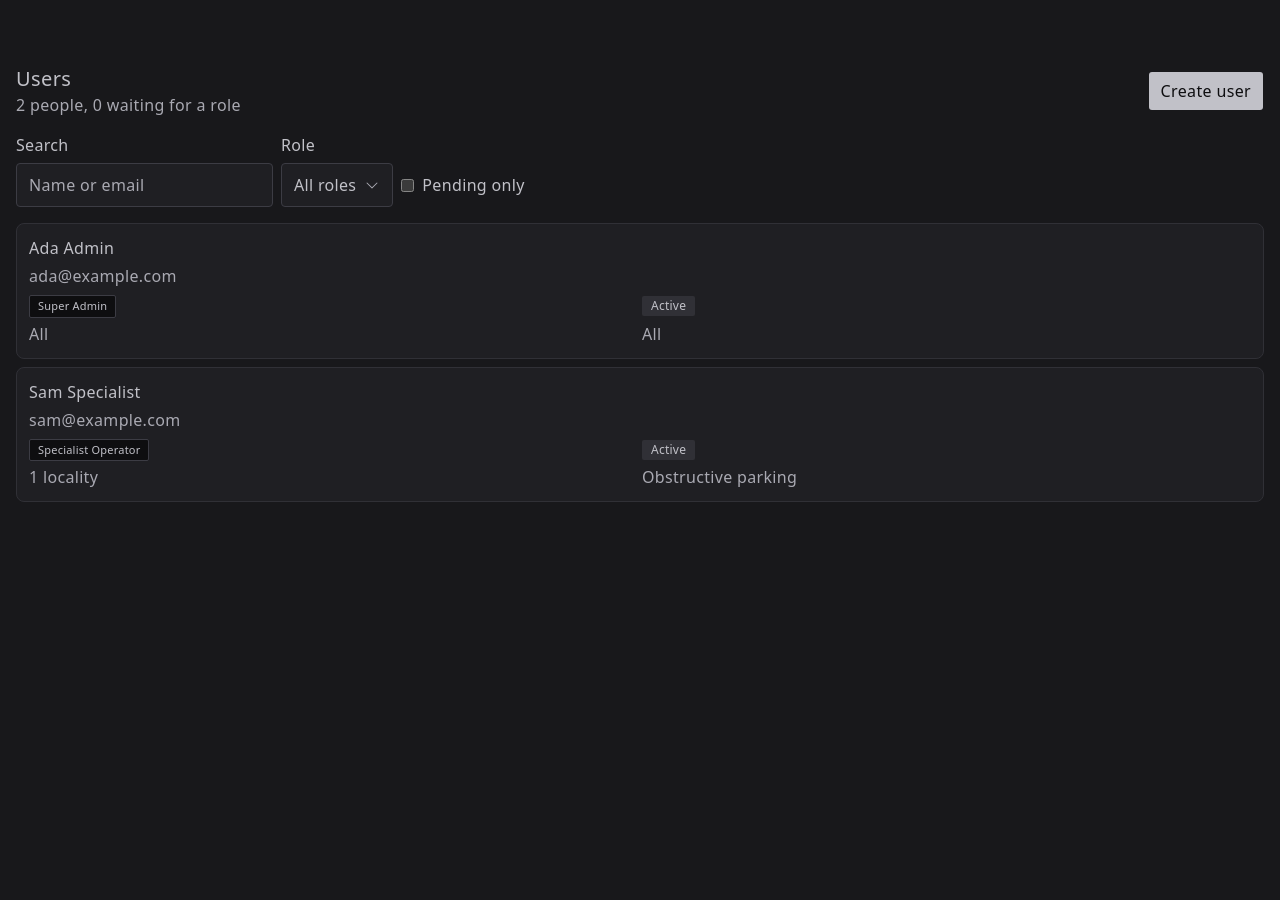
Test: UsersAdmin › deactivates a user (the closest thing to "delete" here: no hard delete exists)
The width and height of the screenshot is (1280, 900).
Expected: the text "Ada Admin" is shown, [29,236,1251,260]
Click the text "Sam Specialist": (85, 392) [29,380,1251,404]
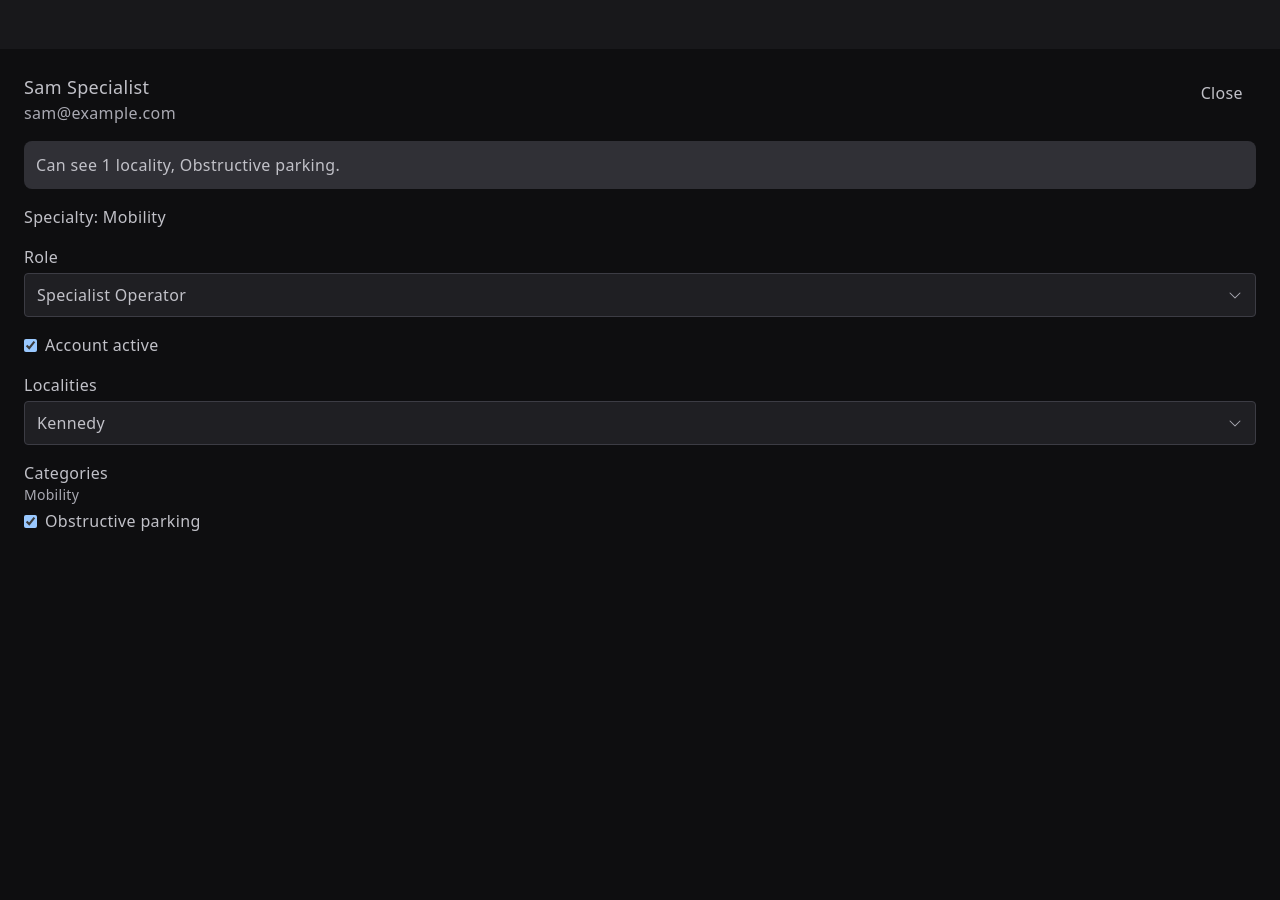
Expected: the checkbox labelled "Account active" is checked
Click the checkbox labelled "Account active": (30, 345) [24,338,37,352]
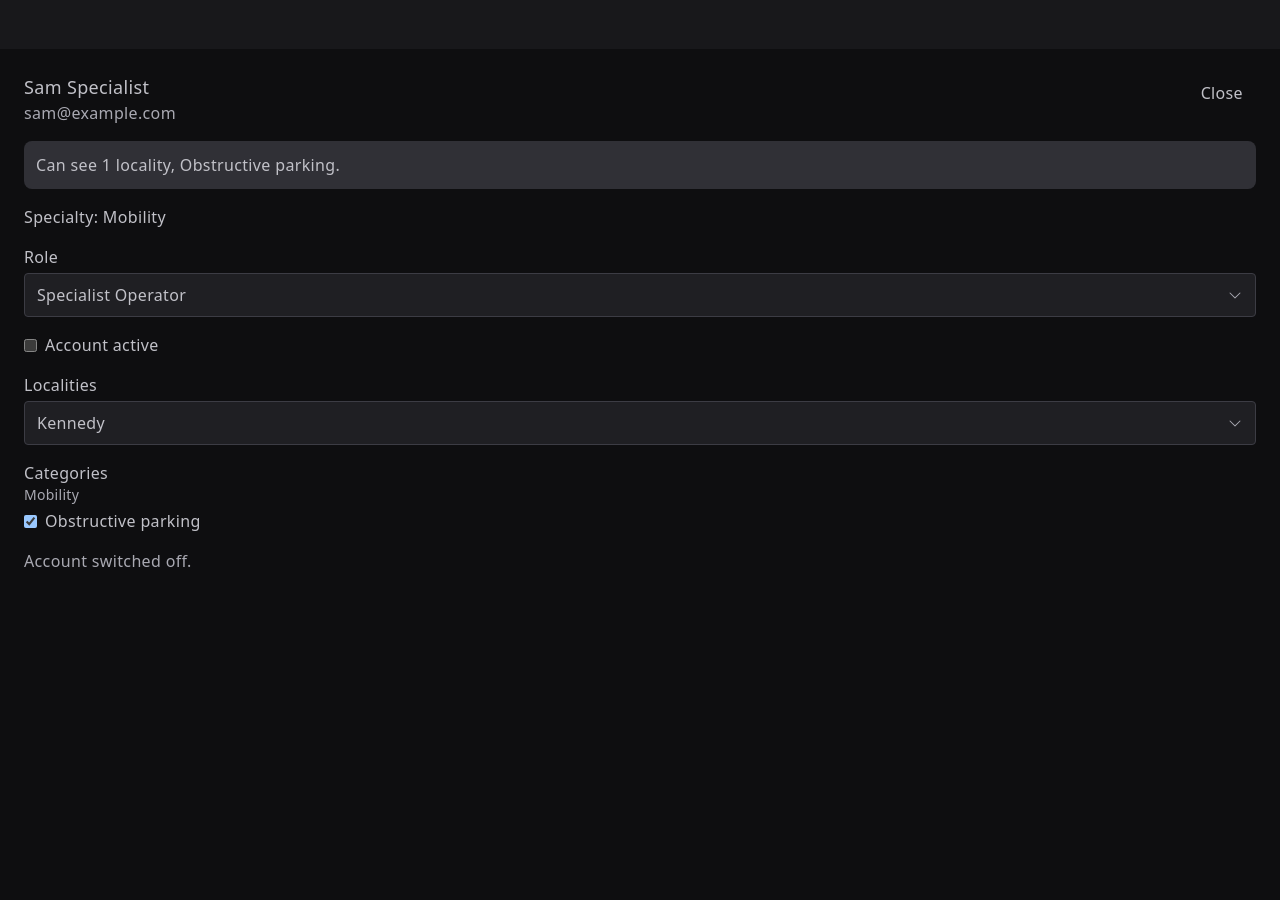
Expected: the message reads "Account switched off.", [24,550,192,572]
